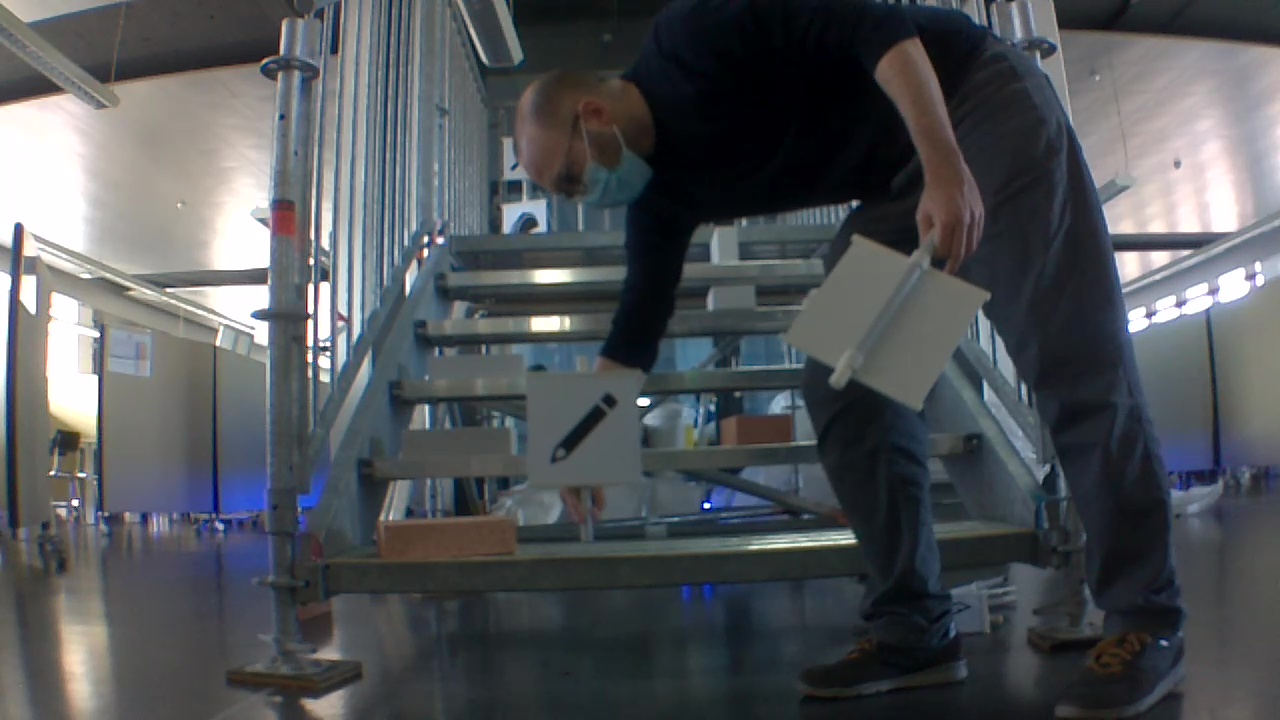brick: (376, 518, 524, 562), (400, 424, 515, 460), (425, 353, 524, 382), (721, 413, 794, 445), (707, 283, 755, 315), (708, 227, 738, 263)
edge: (313, 543, 860, 601)
pencil: (548, 388, 619, 464)
taco: (512, 209, 538, 233)
